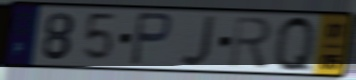5: (81, 12, 117, 65)
8: (40, 11, 76, 63)
J: (178, 14, 218, 68)
P: (128, 10, 174, 68)
Q: (274, 13, 316, 76)
R: (227, 15, 274, 70)
